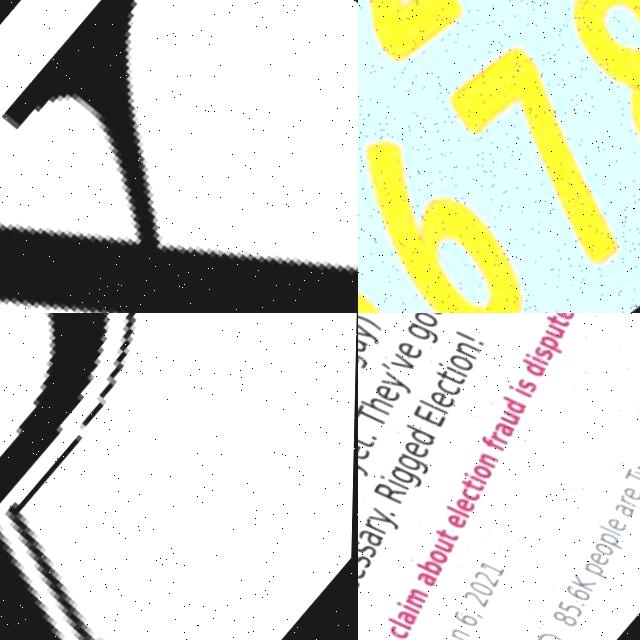0: (465, 575, 499, 609)
1: (477, 557, 509, 588)
2: (459, 586, 493, 619), (470, 566, 504, 599)
5: (358, 183, 480, 313), (554, 596, 588, 630)
6: (358, 93, 591, 313), (561, 581, 596, 615), (449, 605, 483, 639)
7: (402, 20, 640, 307)
8: (510, 0, 640, 223), (550, 607, 582, 640)
X: (0, 0, 358, 313)
